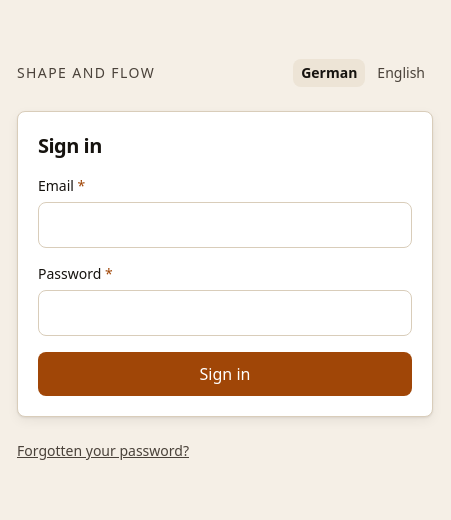
Scenario: OfficeLogin › says one thing for every rejected credential
The image size is (451, 520).
Type "mara@shapeandflow.test" into the field labelled "Email *" at (225, 225), box 38,202 -> 412,248
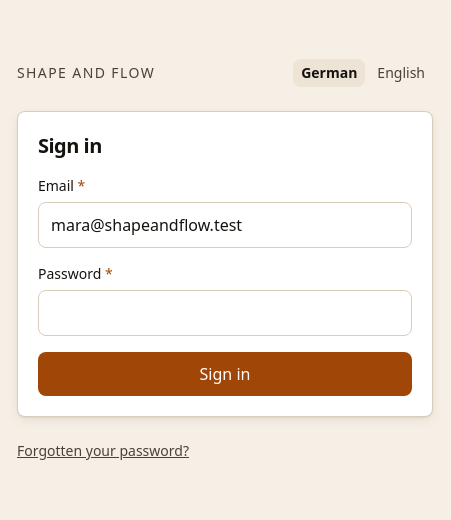
Type "wrong" into the password field labelled "Password *" at (225, 313), box 38,290 -> 412,336
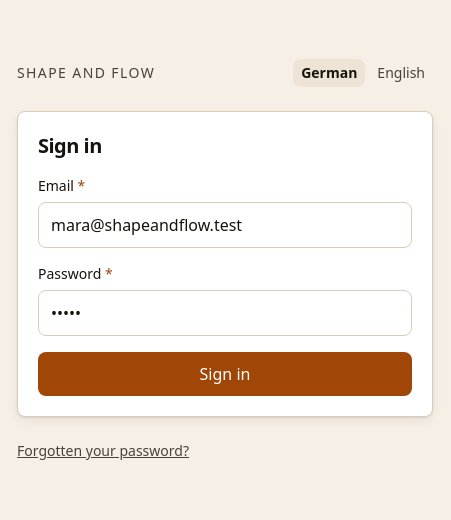
Submit the form, box 38,176 -> 412,396
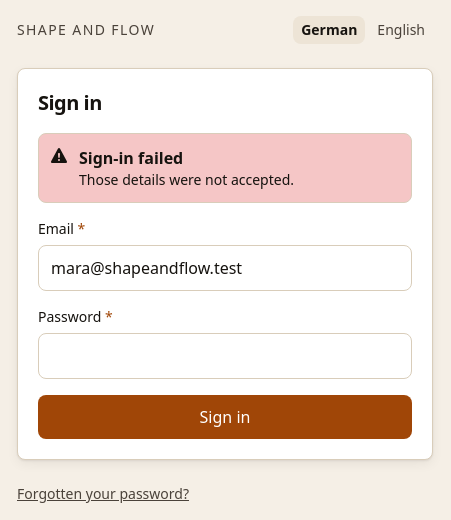
Now the message with test id "failed" shows "not accepted", box 79,170 -> 294,189
